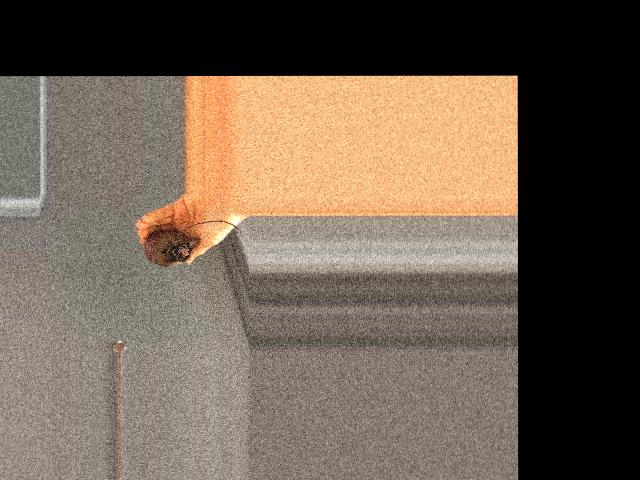beet: (131, 219, 242, 265)
